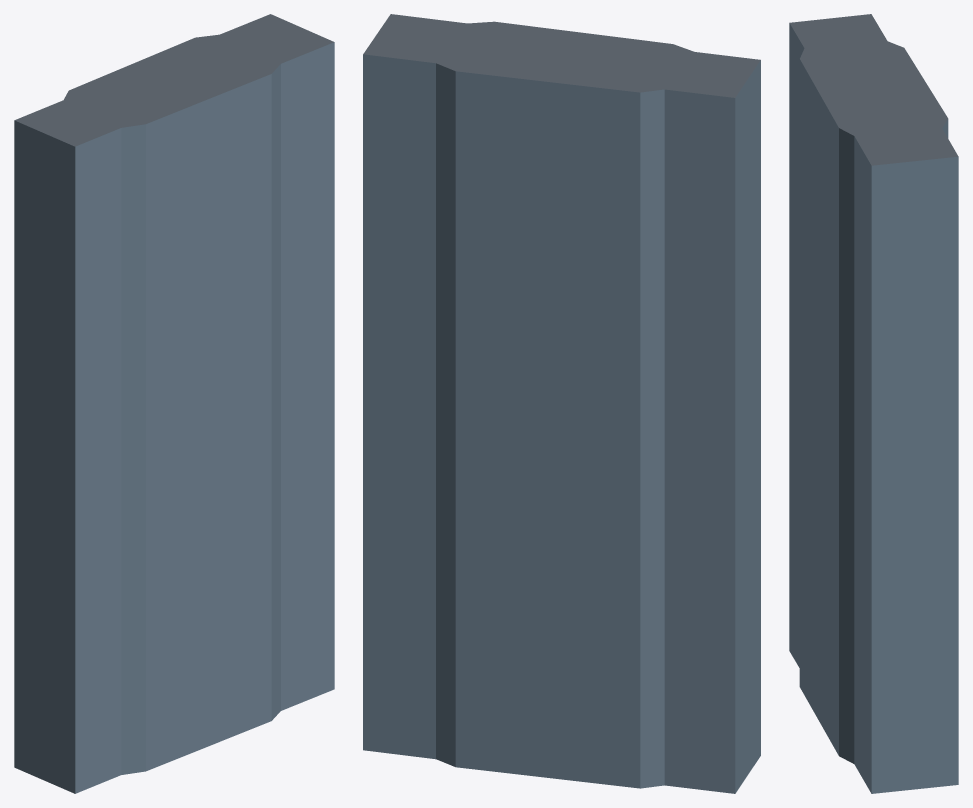
The picture shows the model from 3 angles, left to right: view 1: azimuth 30°, elevation 25°; view 2: azimuth 150°, elevation 25°; view 3: azimuth 270°, elevation 25°; orthographic projection. The views are drawn at different scales.
Visible parts, largest first — view 1: HP-w757506897; view 2: HP-w757506897; view 3: HP-w757506897.
Part boxes in pixels (box(x1,y1,x2,y2)): HP-w757506897: box(14, 14, 334, 793); HP-w757506897: box(363, 14, 760, 793); HP-w757506897: box(789, 14, 958, 793).
Size of the model in its own units: 66.93 by 129 by 31.54.
